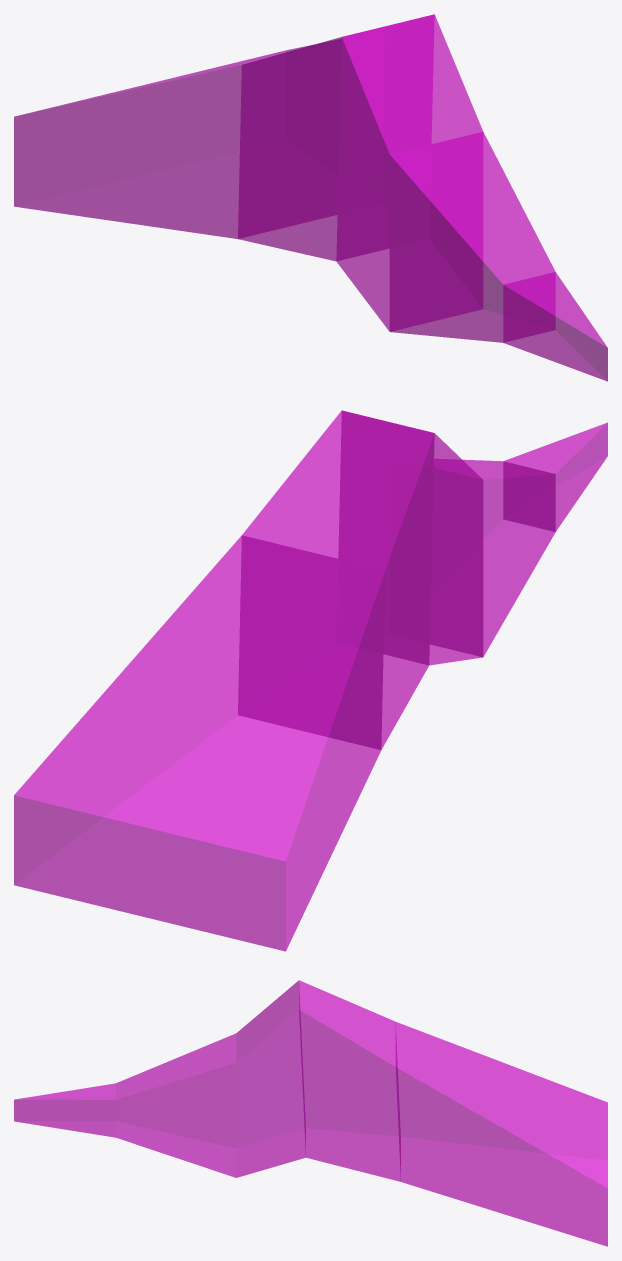
Rendered from SM_Veh_Ship_L_Ram_02_Collision.fbx.
3 views of the same model, one above another, from view 1: azimuth 30°, elevation 25°; view 2: azimuth 150°, elevation 25°; view 3: azimuth 270°, elevation 25° (orthographic). The views are drawn at different scales.
Parts seen in each view (by area): view 1: SM_Veh_Ship_L_Ram_02_Collision; view 2: SM_Veh_Ship_L_Ram_02_Collision; view 3: SM_Veh_Ship_L_Ram_02_Collision.
Part boxes in pixels (<box>): SM_Veh_Ship_L_Ram_02_Collision: <box>14,14,607,381</box>; SM_Veh_Ship_L_Ram_02_Collision: <box>14,410,607,951</box>; SM_Veh_Ship_L_Ram_02_Collision: <box>14,980,607,1246</box>.
Size of the model in its own units: 369 by 418 by 1078.
